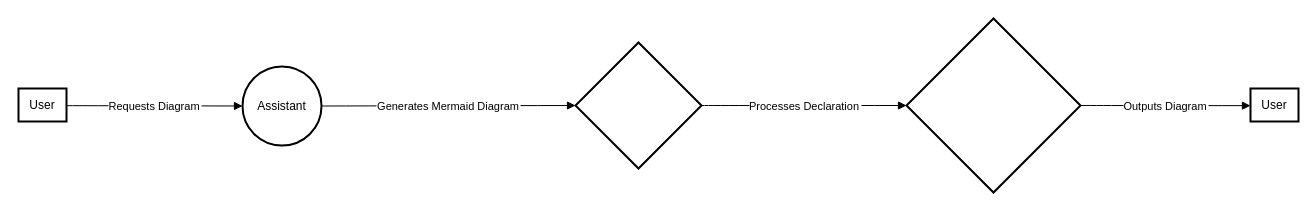
Some shapes in this 1316 by 210 pixel diagram are drawn without their labels. Here are the shapes that lost their labels. From the top down, the centre of each, then its label:
At (x=638, y=105): "MermaidJS".
At (x=993, y=105): "Mermaid Diagram".
